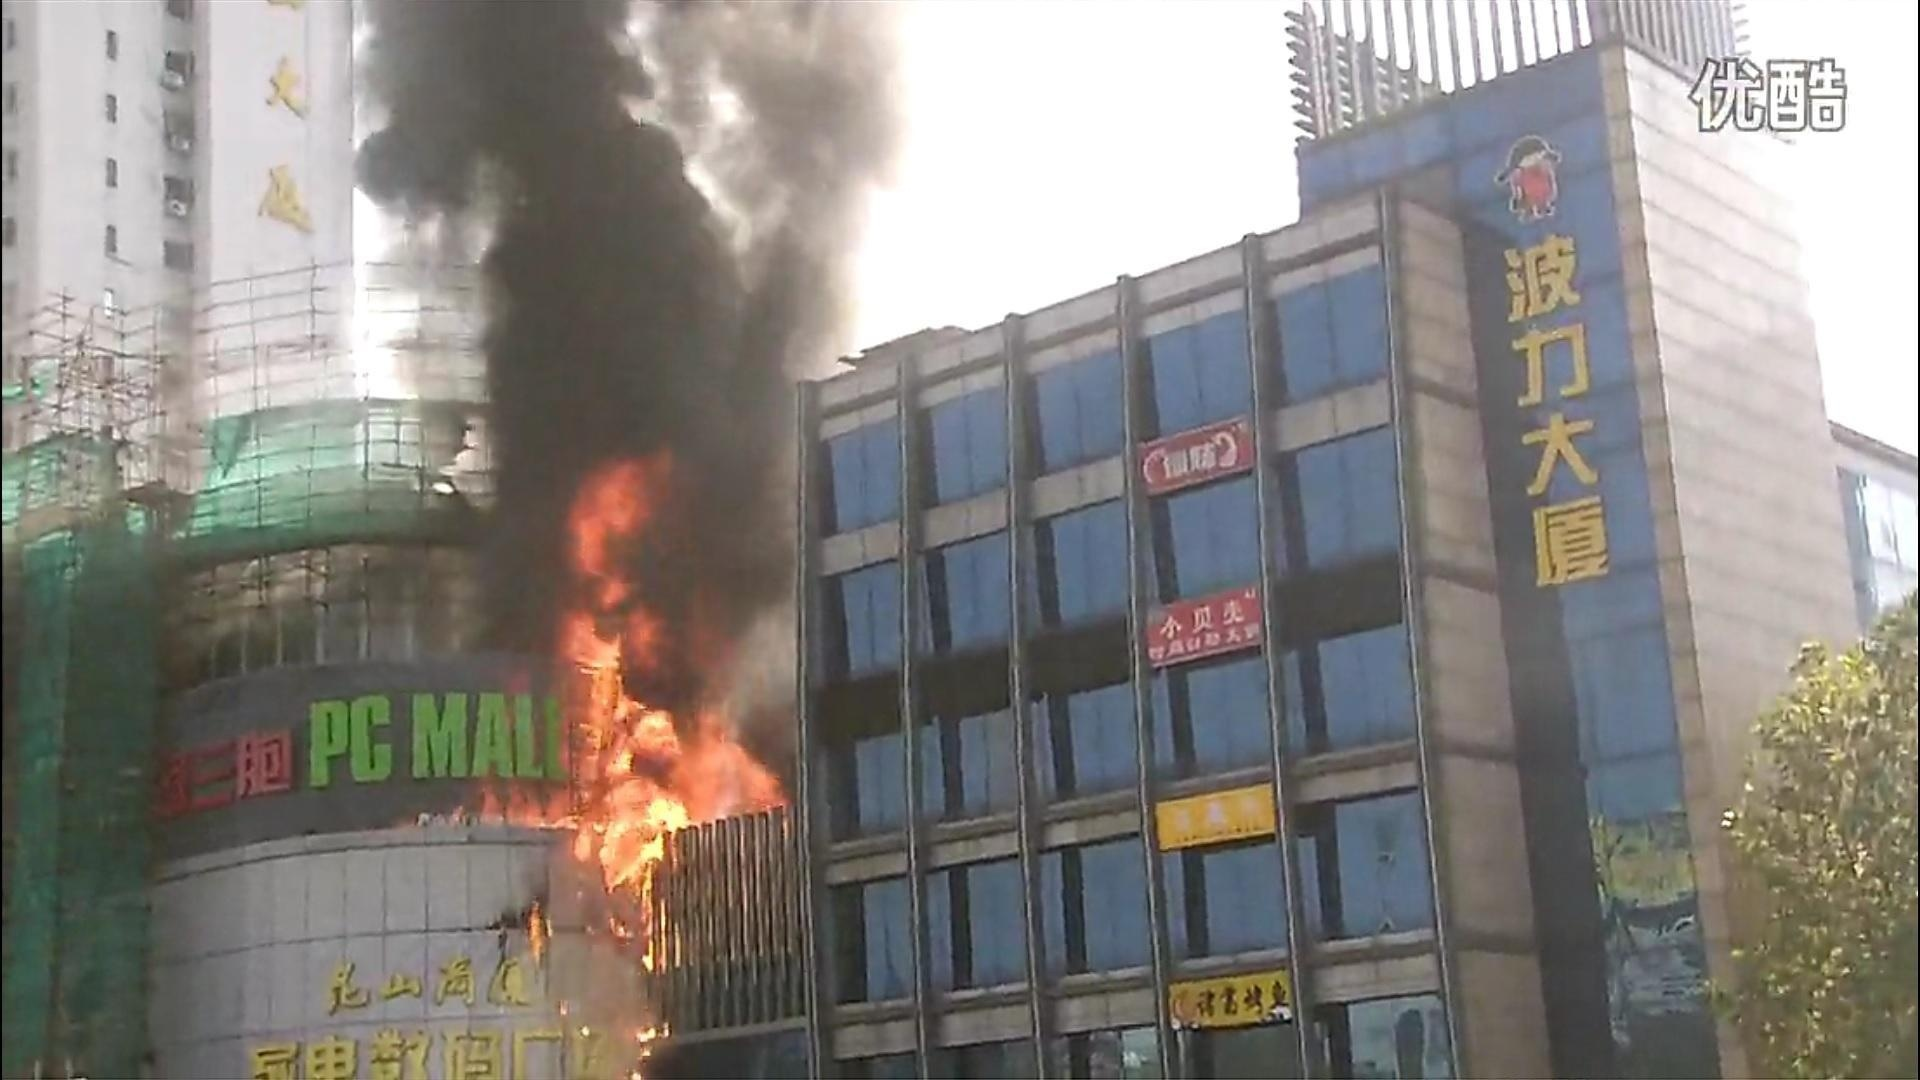fire: (491, 469, 785, 981)
